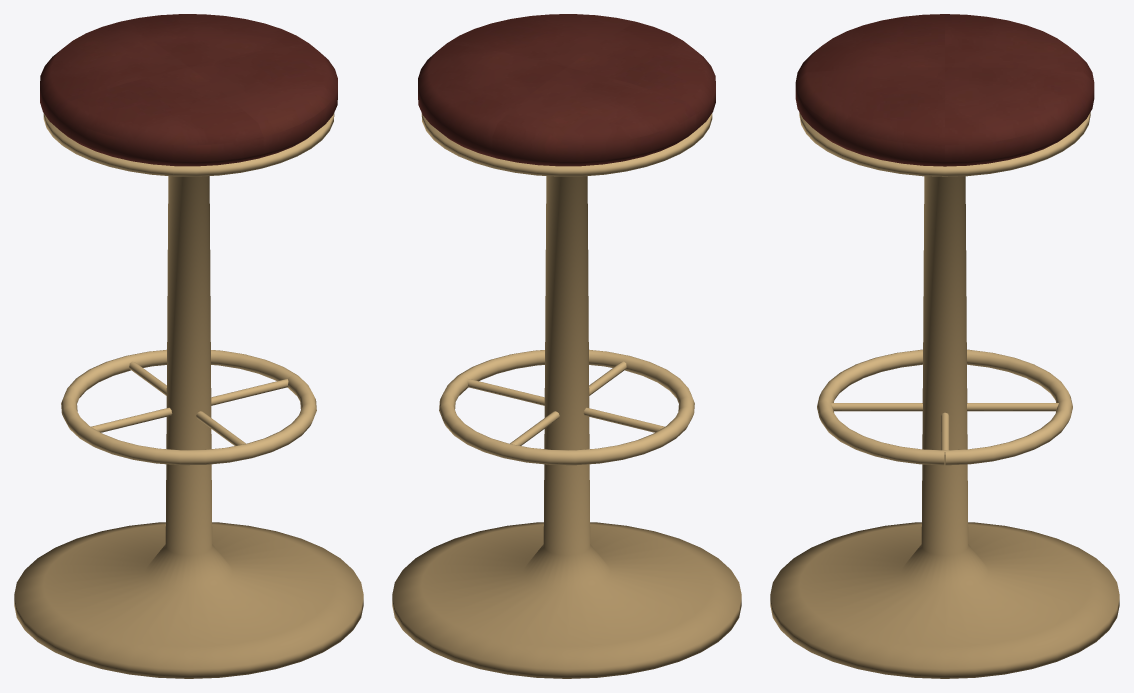
Rendered from banqueta.glb.
3 renders of one model, left to right at view 1: azimuth 30°, elevation 25°; view 2: azimuth 150°, elevation 25°; view 3: azimuth 270°, elevation 25°, orthographic.
Parts seen in each view (by area): view 1: banqueta_coluna, banqueta_assento, banqueta_descanso, banqueta_aro, banqueta_raio, banqueta_raio.002; view 2: banqueta_coluna, banqueta_assento, banqueta_descanso, banqueta_aro, banqueta_raio, banqueta_raio.002; view 3: banqueta_coluna, banqueta_assento, banqueta_descanso, banqueta_aro, banqueta_raio.001, banqueta_raio.003.
Part boxes in pixels (x1=…): banqueta_coluna: x1=14, y1=176, x2=363, y2=678; banqueta_assento: x1=40, y1=14, x2=337, y2=166; banqueta_descanso: x1=61, y1=349, x2=316, y2=465; banqueta_aro: x1=43, y1=113, x2=334, y2=176; banqueta_raio: x1=211, y1=379, x2=288, y2=405; banqueta_raio.002: x1=91, y1=407, x2=172, y2=432; banqueta_coluna: x1=392, y1=176, x2=741, y2=678; banqueta_assento: x1=418, y1=14, x2=715, y2=166; banqueta_descanso: x1=439, y1=349, x2=694, y2=465; banqueta_aro: x1=421, y1=113, x2=712, y2=176; banqueta_raio: x1=467, y1=379, x2=544, y2=405; banqueta_raio.002: x1=583, y1=407, x2=664, y2=432; banqueta_coluna: x1=770, y1=176, x2=1119, y2=678; banqueta_assento: x1=795, y1=14, x2=1094, y2=166; banqueta_descanso: x1=817, y1=349, x2=1072, y2=465; banqueta_aro: x1=799, y1=112, x2=1090, y2=176; banqueta_raio.001: x1=831, y1=403, x2=922, y2=411; banqueta_raio.003: x1=967, y1=403, x2=1058, y2=411.
Size of the model in its own units: 0.48 by 0.815 by 0.48.
3 materials, 1 textured.
